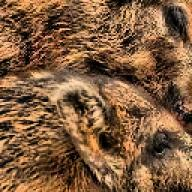boar: (0, 0, 192, 138), (0, 67, 192, 192)
